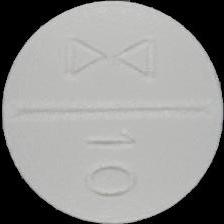50436-5851: (0, 0, 224, 224)
